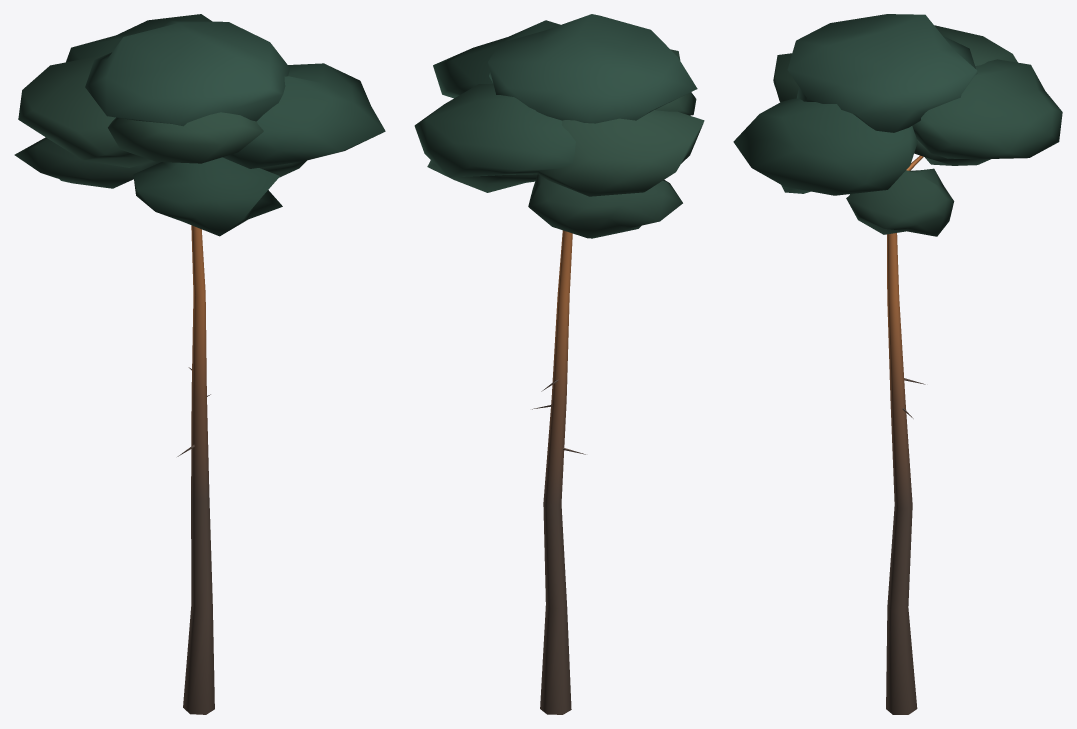
File: tree_pine.glb
The picture shows the model from 3 angles, left to right: view 1: azimuth 30°, elevation 25°; view 2: azimuth 150°, elevation 25°; view 3: azimuth 270°, elevation 25°; orthographic projection. The views are drawn at different scales.
Parts seen in each view (by area): view 1: tree_pine; view 2: tree_pine; view 3: tree_pine.
Boxes of the visible parts, <box> form: tree_pine: <box>14,14,385,714</box>; tree_pine: <box>414,14,704,714</box>; tree_pine: <box>733,14,1062,714</box>.
Size of the model in its own units: 9.96 by 22.08 by 9.82.
